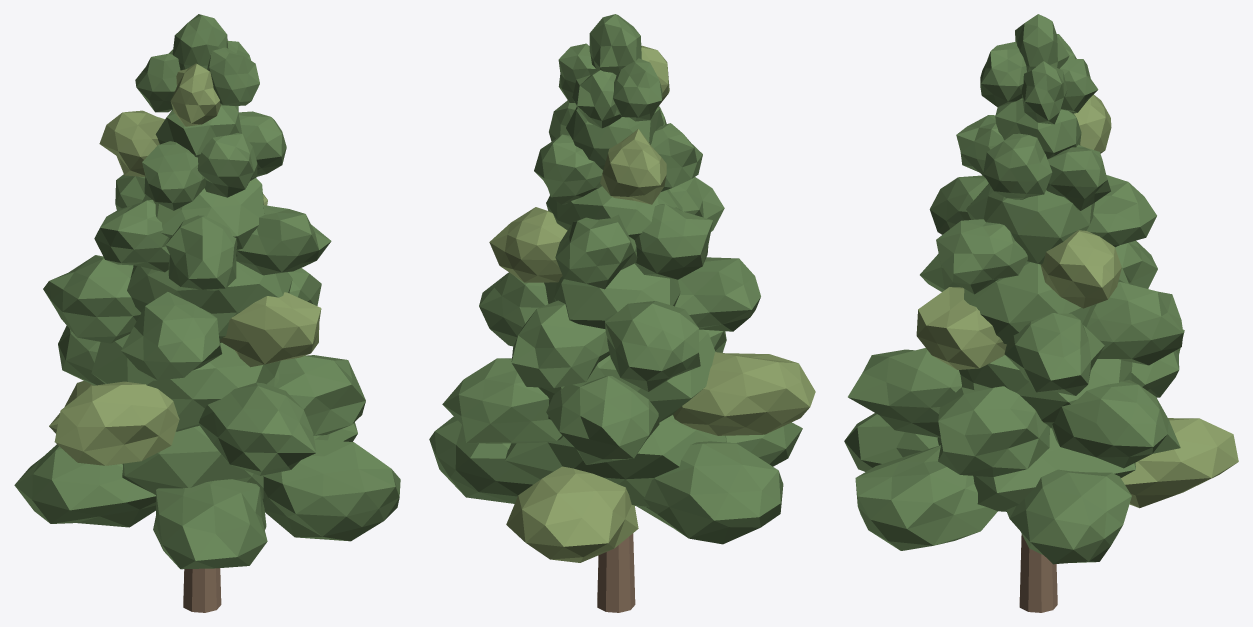
The model's file is pine_tall_b.glb.
3 views of the same model, side by side, from view 1: azimuth 30°, elevation 25°; view 2: azimuth 150°, elevation 25°; view 3: azimuth 270°, elevation 25° (orthographic).
Parts seen in each view (by area): view 1: pine_tall_b; view 2: pine_tall_b; view 3: pine_tall_b.
Part boxes in pixels (box(x1,y1,x2,y2)): pine_tall_b: box(14, 14, 400, 612); pine_tall_b: box(429, 14, 815, 612); pine_tall_b: box(844, 14, 1238, 612).
Size of the model in its own units: 5 by 8.3 by 5.03.
